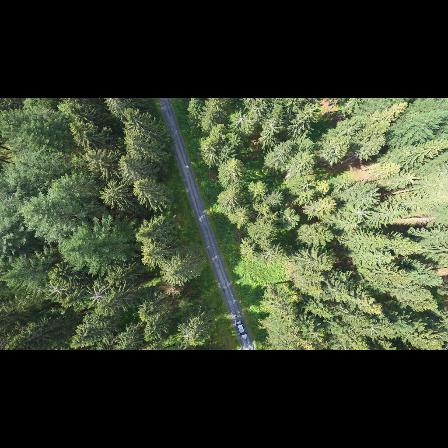Sick: (46, 278, 71, 302), (87, 283, 108, 309), (349, 202, 372, 224), (232, 108, 251, 133), (262, 115, 281, 136)
